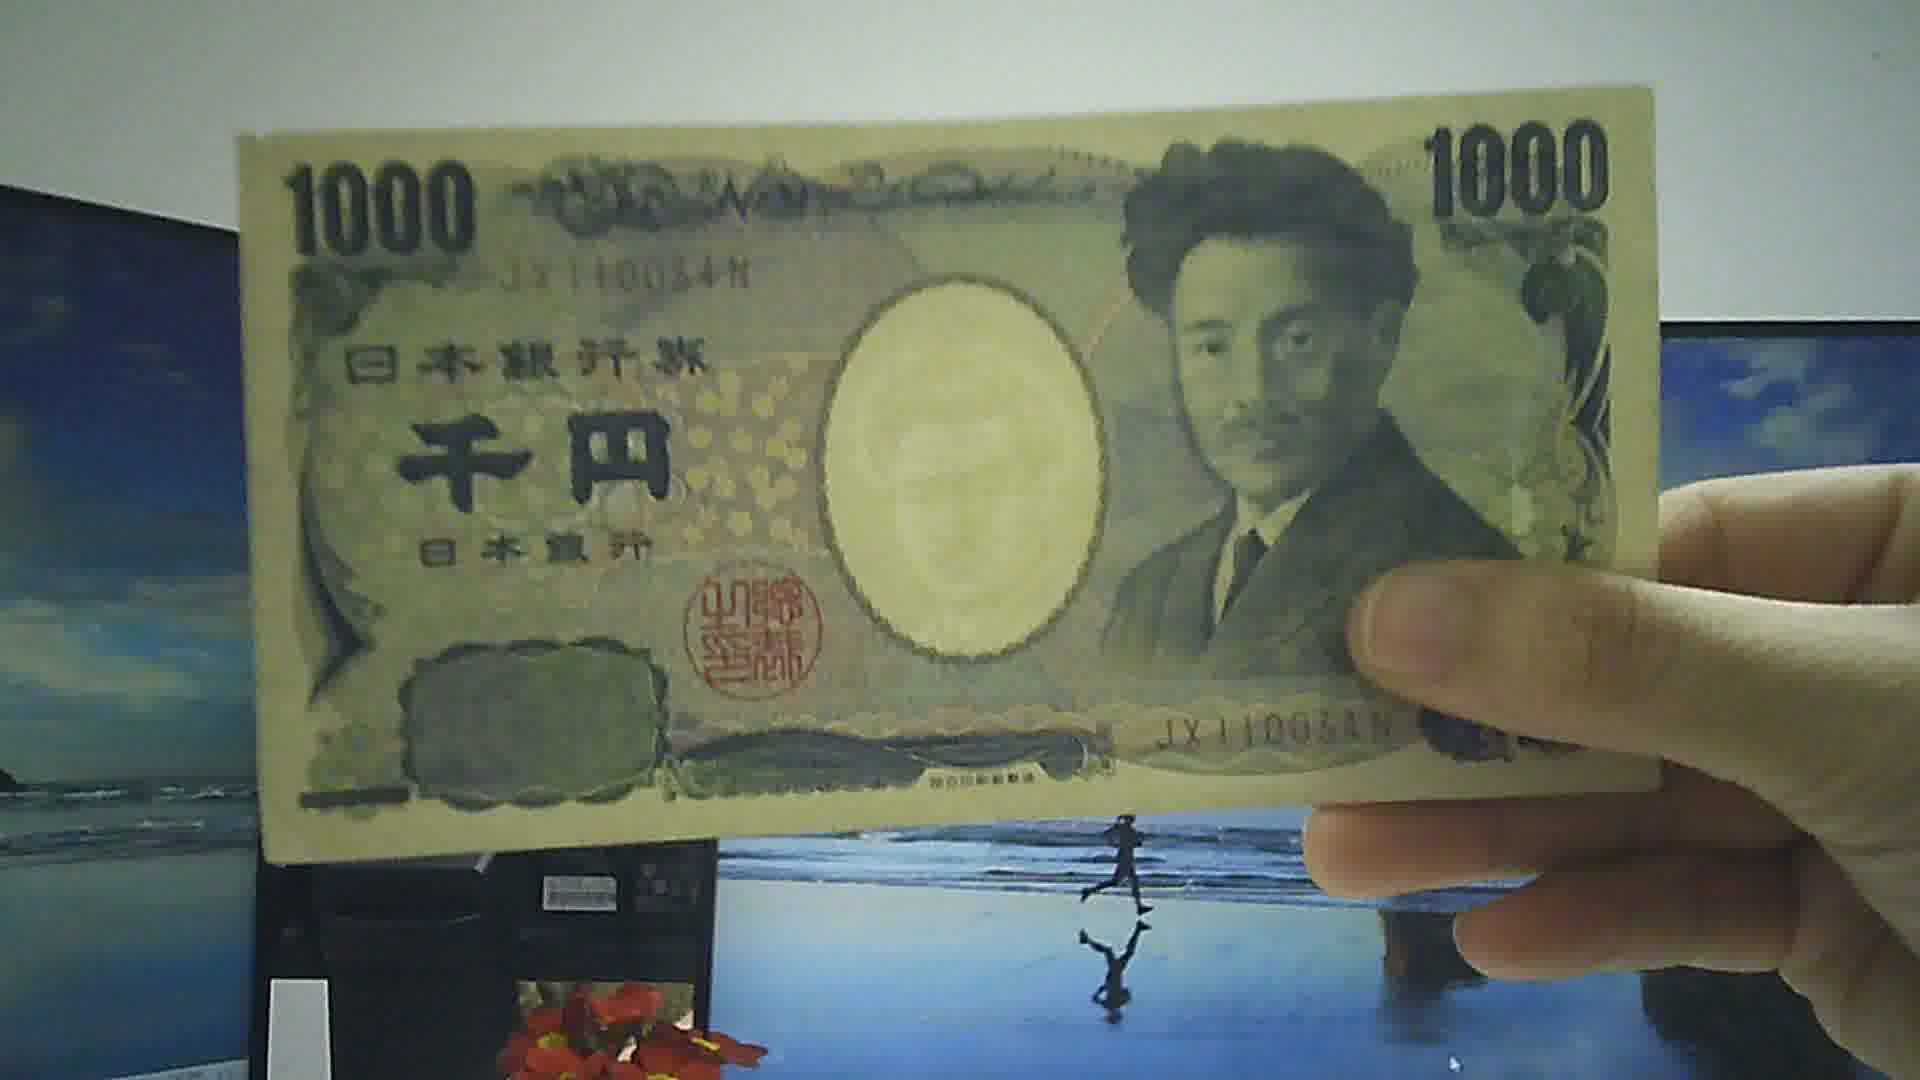1,000 Yen: (233, 100, 1677, 815)
